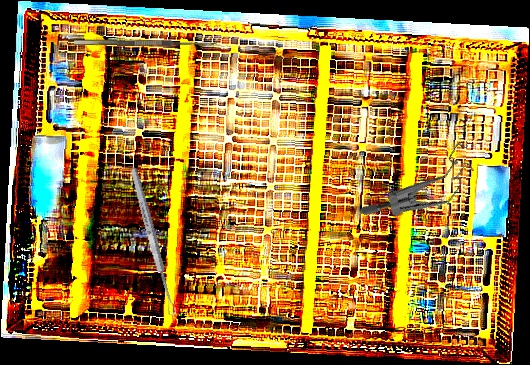Hook Surgical: (73, 31, 218, 48)
Speculum: (357, 114, 487, 253)
Surgical Spoon: (128, 166, 178, 317)
